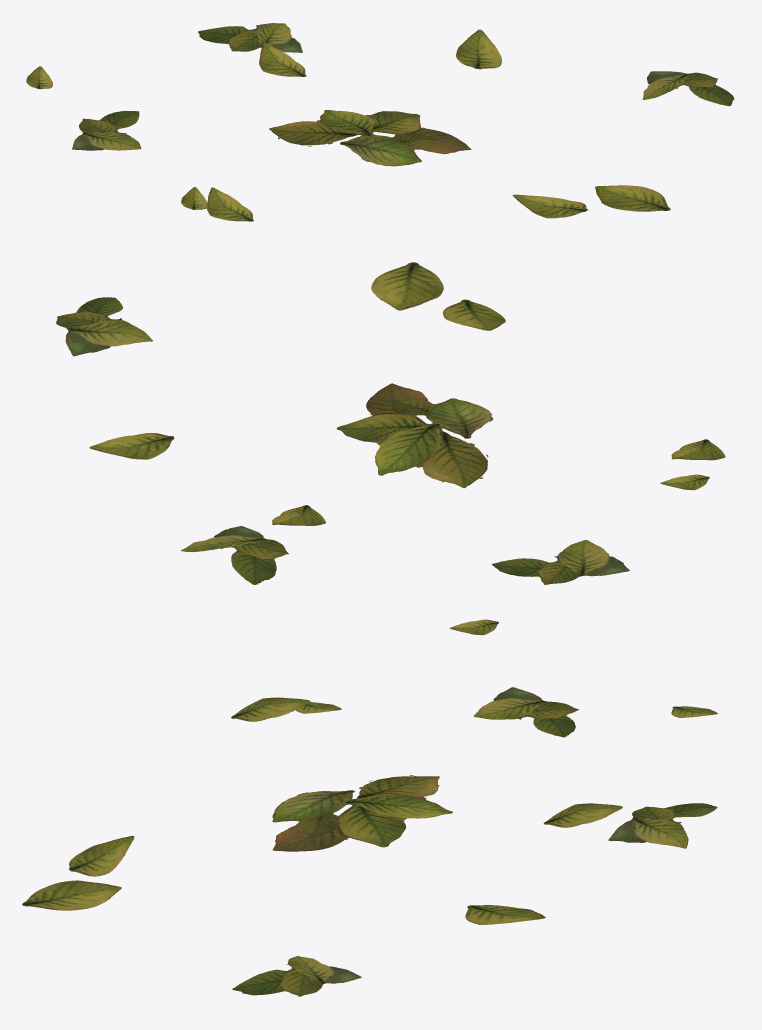
File: 1001_Item_zawu_38.fbx
3 renders of one model, top to bottom at view 1: azimuth 30°, elevation 25°; view 2: azimuth 150°, elevation 25°; view 3: azimuth 270°, elevation 25°, orthographic. The views are drawn at different scales.
Parts seen in each view (by area): view 1: 1001_Item_zawu_38; view 2: 1001_Item_zawu_38; view 3: 1001_Item_zawu_38.
Boxes of the visible parts, box(x1,y1,x2,y2) form: 1001_Item_zawu_38: box(26, 23, 734, 221); 1001_Item_zawu_38: box(56, 262, 725, 635); 1001_Item_zawu_38: box(22, 687, 717, 996).
Size of the model in its own units: 316 by 9.97 by 284.
